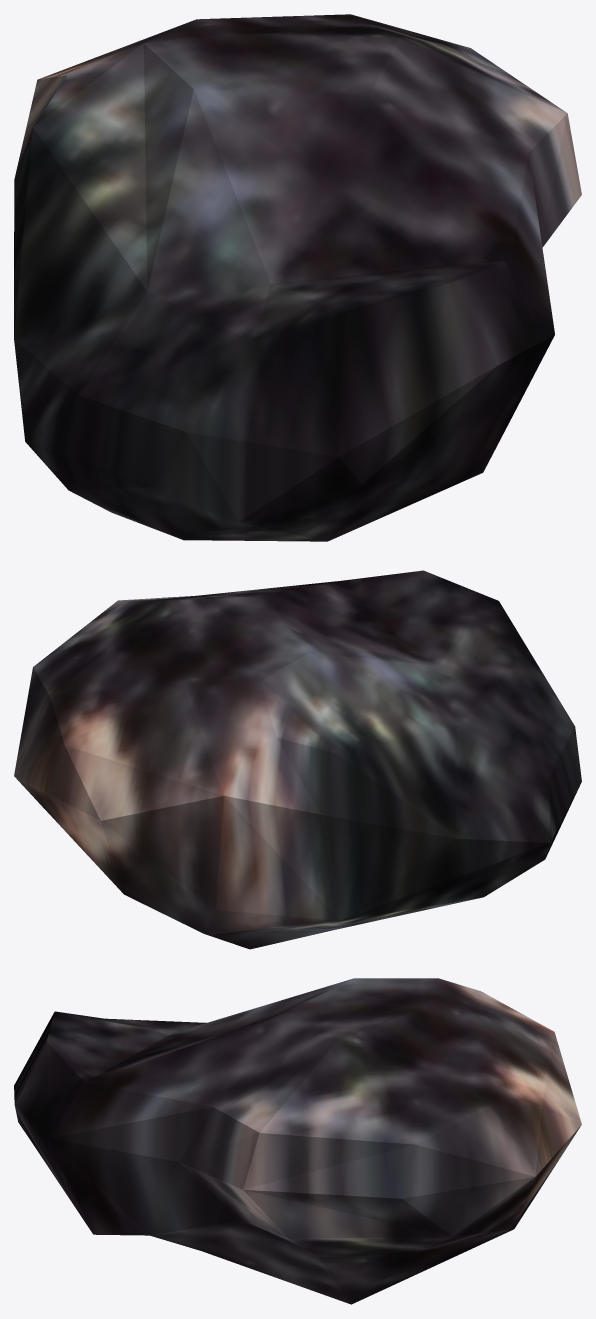
File: rock2.glb
The picture shows the model from 3 angles, top to bottom: view 1: azimuth 30°, elevation 25°; view 2: azimuth 150°, elevation 25°; view 3: azimuth 270°, elevation 25°; orthographic projection. The views are drawn at different scales.
Visible parts, largest first — view 1: Rock2; view 2: Rock2; view 3: Rock2.
Part boxes in pixels (x1,y1,x2,y2): Rock2: [14, 14, 581, 541]; Rock2: [14, 570, 581, 949]; Rock2: [14, 978, 581, 1304].
Size of the model in its own units: 1.73 by 1.14 by 1.98.
1 material, 1 textured.
